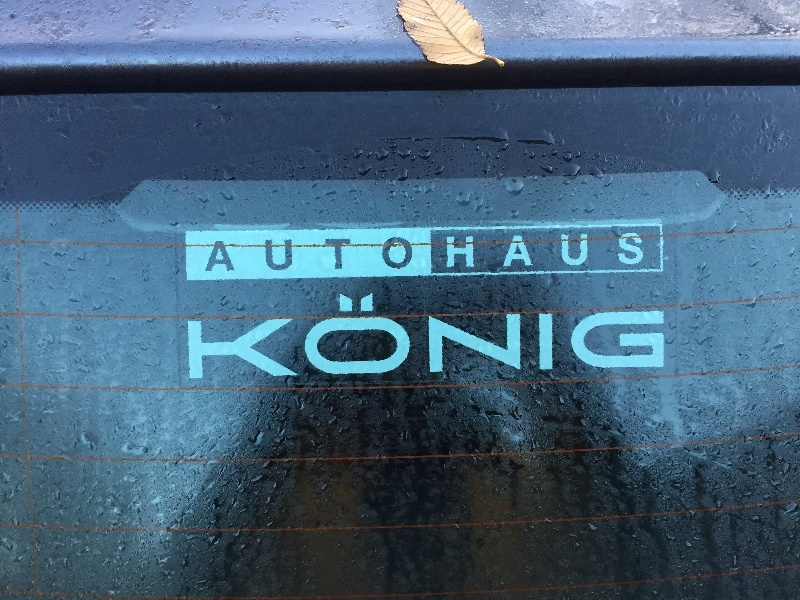text: (193, 278, 208, 383), (209, 278, 224, 383), (225, 278, 240, 383), (241, 278, 256, 383), (257, 278, 272, 383), (273, 278, 288, 383), (289, 278, 304, 383), (305, 278, 320, 383), (321, 278, 336, 383), (337, 278, 352, 383), (353, 278, 368, 383), (369, 278, 384, 383), (385, 278, 400, 383), (401, 278, 416, 383), (417, 278, 432, 383), (433, 278, 448, 383), (449, 278, 464, 383), (465, 278, 480, 383), (481, 278, 496, 383), (497, 278, 512, 383), (513, 278, 528, 383), (529, 278, 544, 383), (545, 278, 560, 383), (561, 278, 576, 383), (577, 278, 592, 383), (593, 278, 608, 383), (609, 278, 624, 383), (625, 278, 640, 383), (641, 278, 656, 383), (657, 278, 667, 383), (209, 224, 224, 278), (225, 224, 240, 278), (241, 224, 256, 278), (257, 224, 272, 278), (273, 224, 288, 278), (289, 224, 304, 278), (305, 224, 320, 278), (321, 224, 336, 278), (337, 224, 352, 278), (353, 224, 368, 278), (369, 224, 384, 278), (385, 224, 400, 278), (401, 224, 416, 278), (417, 224, 432, 278), (433, 224, 448, 278), (449, 224, 464, 278), (465, 224, 480, 278), (481, 224, 496, 278), (497, 224, 512, 278), (513, 224, 528, 278), (529, 224, 544, 278), (545, 224, 560, 278), (561, 224, 576, 278), (577, 224, 592, 278), (593, 224, 608, 278), (609, 224, 624, 278), (625, 224, 640, 278), (185, 278, 192, 383), (201, 224, 208, 278), (641, 224, 645, 278)
